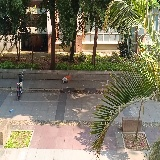fire: (65, 74, 70, 81)
